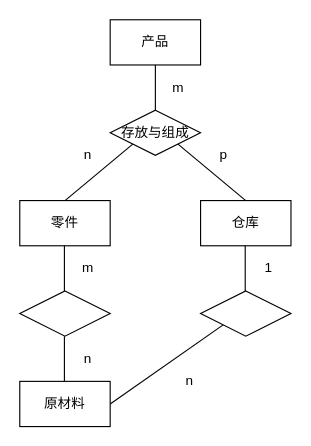
Image size: 311x446. Some labels were removed from this diagram. Each missing label, with the box of its shape:
制作: (19, 290, 110, 336)
存放: (199, 290, 291, 336)
